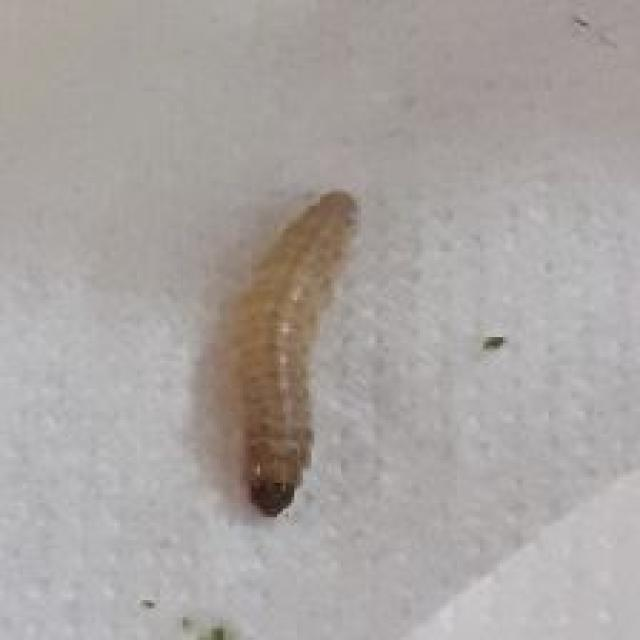white mucus: (184, 157, 406, 517)
